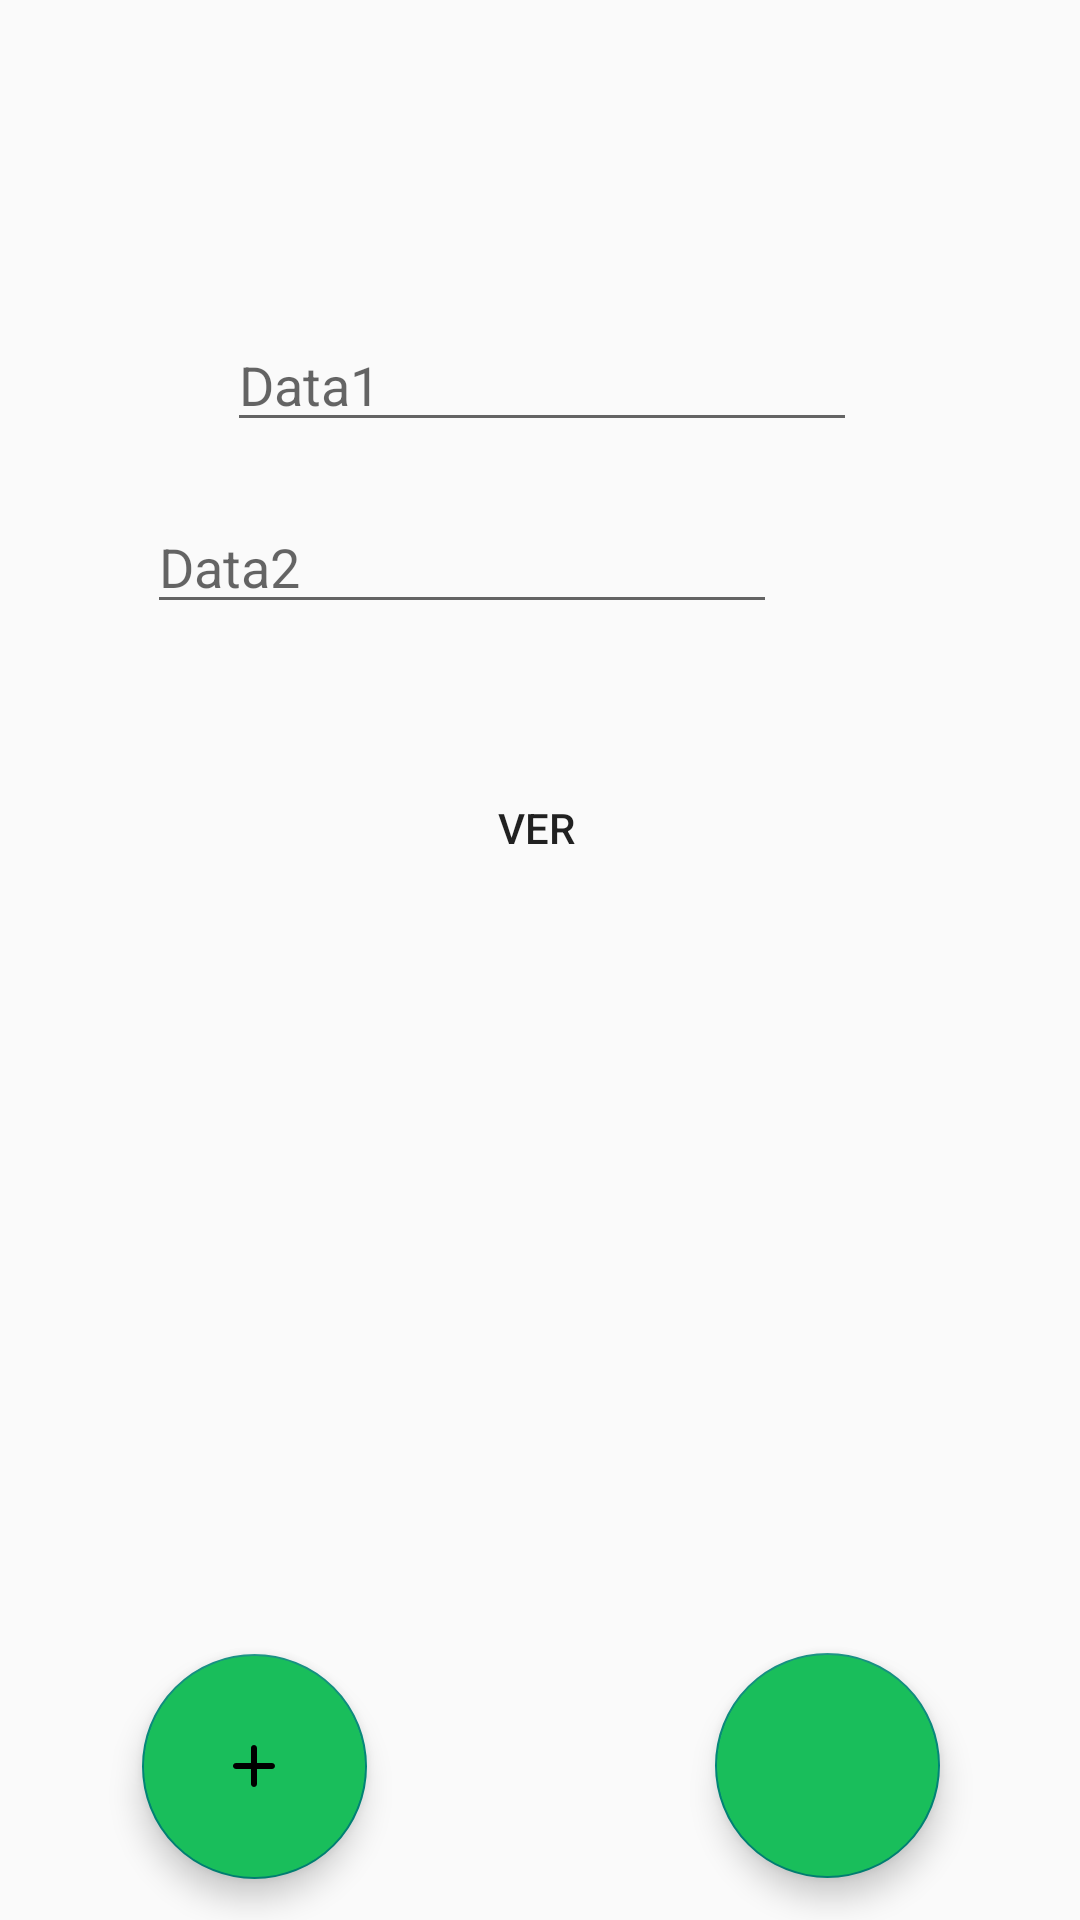

Icons on this 1080 × 1920 Android screen, each with the point to tap as [x,y]:
add: [254,1766]
